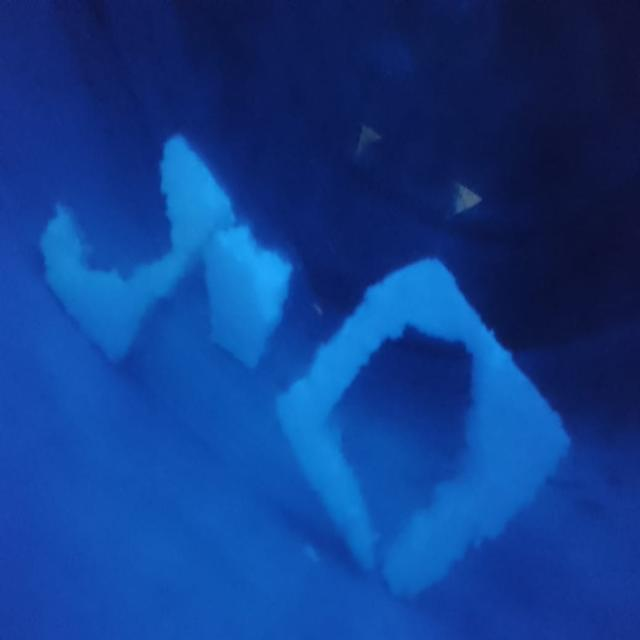litter: (271, 247, 585, 629), (25, 96, 301, 381)
